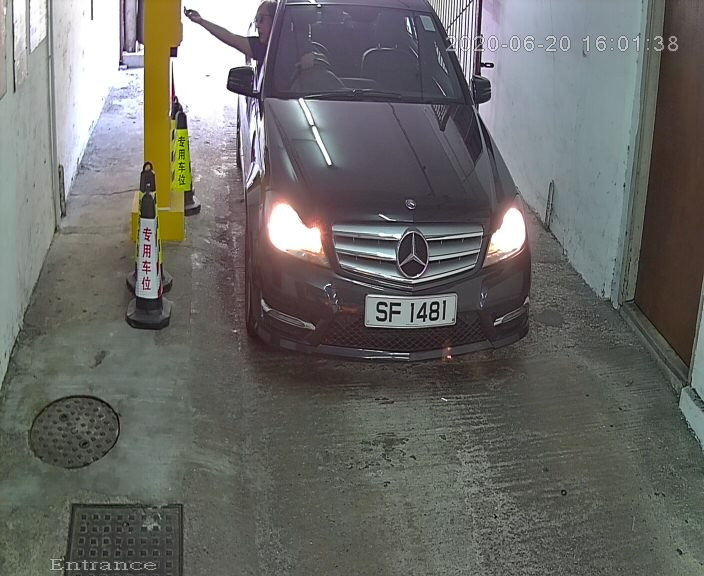privatecar: (220, 2, 552, 390)
